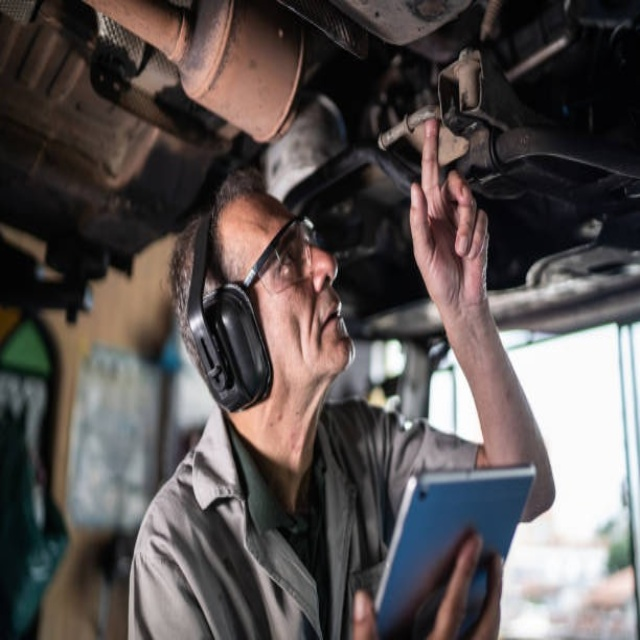Gafas: (244, 215, 334, 298)
Sin_guantes: (407, 116, 490, 321), (354, 524, 500, 640)
Sin_mascara: (304, 290, 355, 378)
